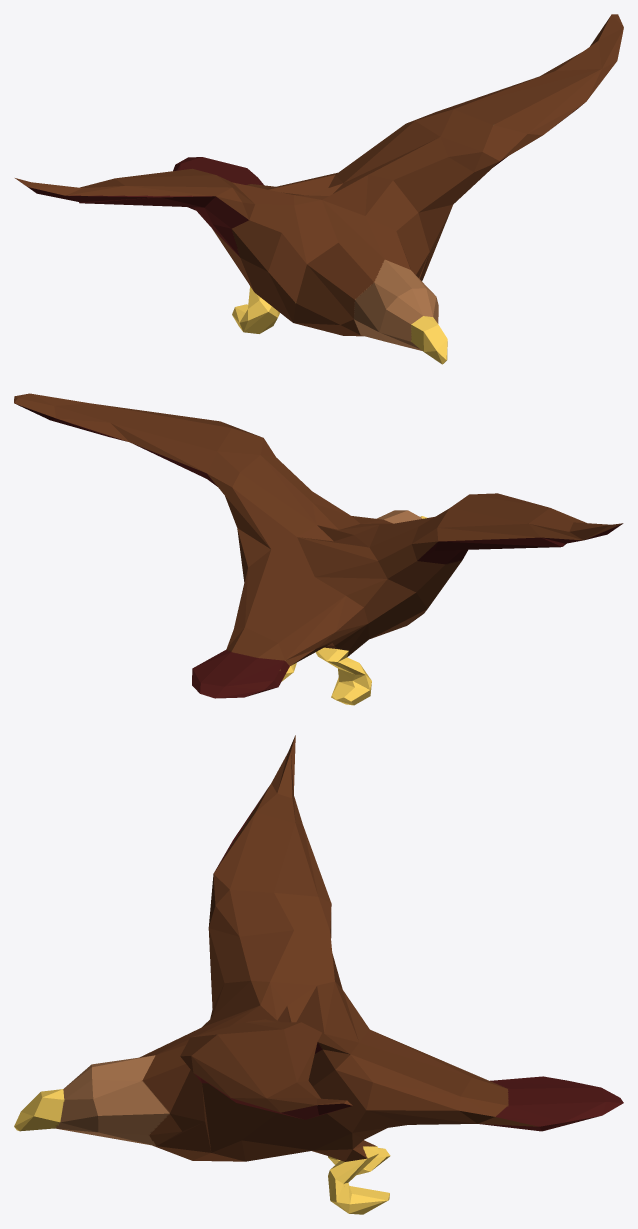
The model's file is aguili_000005.obj.
3 renders of one model, top to bottom at view 1: azimuth 30°, elevation 25°; view 2: azimuth 150°, elevation 25°; view 3: azimuth 270°, elevation 25°, orthographic. The views are drawn at different scales.
Parts seen in each view (by area): view 1: aguila.001_Cube.001; view 2: aguila.001_Cube.001; view 3: aguila.001_Cube.001.
Part boxes in pixels (left/top/right/bottom): aguila.001_Cube.001: left=15, top=14, right=623, bottom=364; aguila.001_Cube.001: left=14, top=393, right=623, bottom=705; aguila.001_Cube.001: left=14, top=735, right=623, bottom=1214.
Bounding box in the file's own units: 80.01 × 28.87 × 56.5.
Materials: 1 (1 with a texture image).
